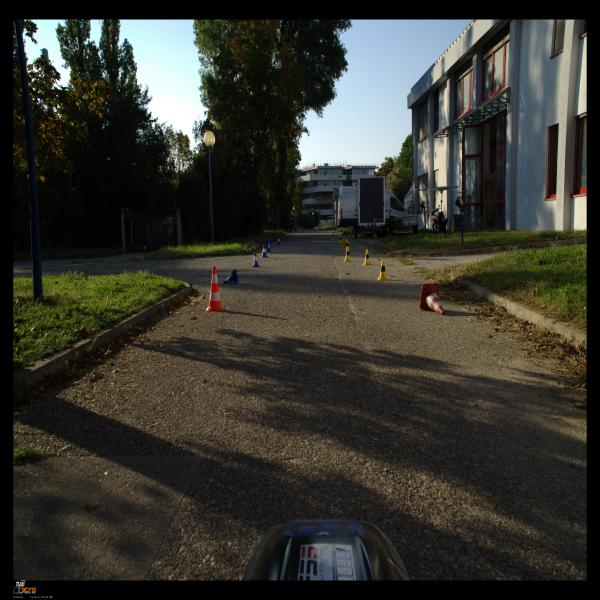blue_cone: (223, 269, 239, 284), (252, 252, 260, 268), (261, 245, 268, 257), (266, 241, 272, 252), (266, 241, 271, 248), (277, 237, 281, 245)
large_orange_cone: (206, 266, 224, 311), (420, 284, 445, 315)
yellow_cone: (378, 260, 388, 280), (362, 249, 372, 265), (343, 247, 352, 261), (344, 239, 351, 251), (338, 234, 342, 244), (342, 239, 347, 246), (331, 232, 335, 240)
